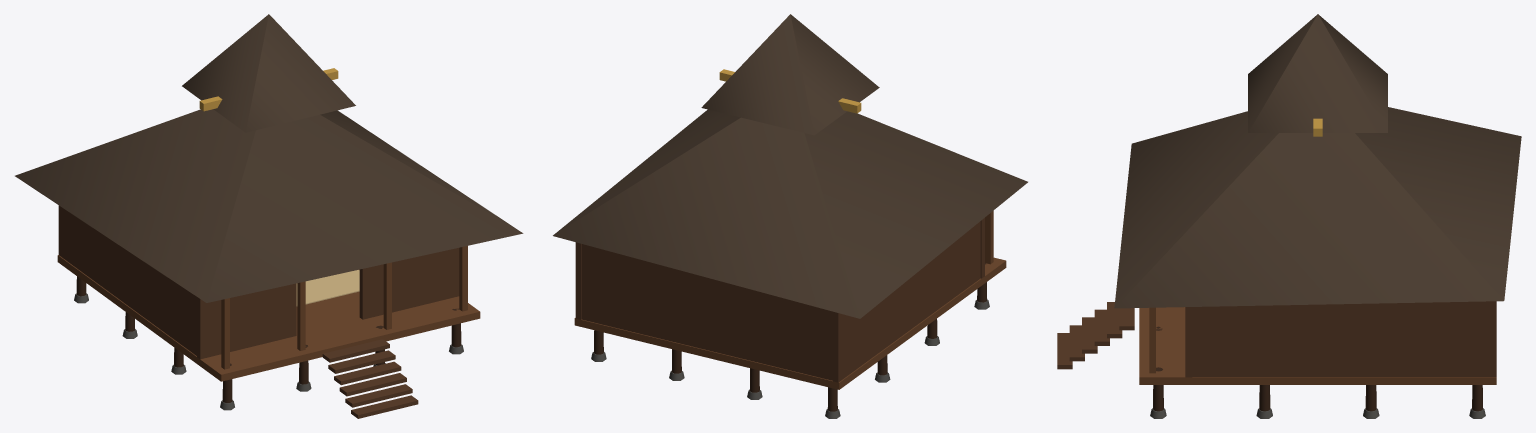
File: malige-istana-buton.glb
3 renders of one model, left to right at view 1: azimuth 30°, elevation 25°; view 2: azimuth 150°, elevation 25°; view 3: azimuth 270°, elevation 25°, orthographic. The views are drawn at different scales.
Visible parts, largest first — view 1: ROOF_SYSTEM, WALL_SYSTEM, FLOOR_SYSTEM, ENTRANCE_STAIRS, STRUCTURAL_COLUMNS, INTERIOR_MAT, FOUNDATION_SYSTEM; view 2: ROOF_SYSTEM, WALL_SYSTEM, FLOOR_SYSTEM, STRUCTURAL_COLUMNS, FOUNDATION_SYSTEM; view 3: ROOF_SYSTEM, WALL_SYSTEM, FLOOR_SYSTEM, ENTRANCE_STAIRS, STRUCTURAL_COLUMNS, FOUNDATION_SYSTEM.
Boxes of the visible parts, x1,y1,x2,y2 form: ROOF_SYSTEM: (15, 14, 523, 302); WALL_SYSTEM: (58, 205, 459, 359); FLOOR_SYSTEM: (57, 255, 480, 381); ENTRANCE_STAIRS: (322, 339, 418, 418); STRUCTURAL_COLUMNS: (76, 246, 467, 402); INTERIOR_MAT: (296, 270, 359, 306); FOUNDATION_SYSTEM: (74, 293, 463, 410); ROOF_SYSTEM: (553, 14, 1027, 318); WALL_SYSTEM: (575, 218, 984, 382); FLOOR_SYSTEM: (574, 257, 1006, 389); STRUCTURAL_COLUMNS: (593, 211, 993, 411); FOUNDATION_SYSTEM: (591, 300, 989, 418); ROOF_SYSTEM: (1114, 14, 1521, 308); WALL_SYSTEM: (1185, 301, 1496, 377); FLOOR_SYSTEM: (1139, 307, 1496, 384); ENTRANCE_STAIRS: (1057, 302, 1134, 369); STRUCTURAL_COLUMNS: (1149, 307, 1483, 411); FOUNDATION_SYSTEM: (1150, 408, 1485, 418).
Size of what is drawn, in the model's own units: 10.72 by 9.9 by 12.22.
